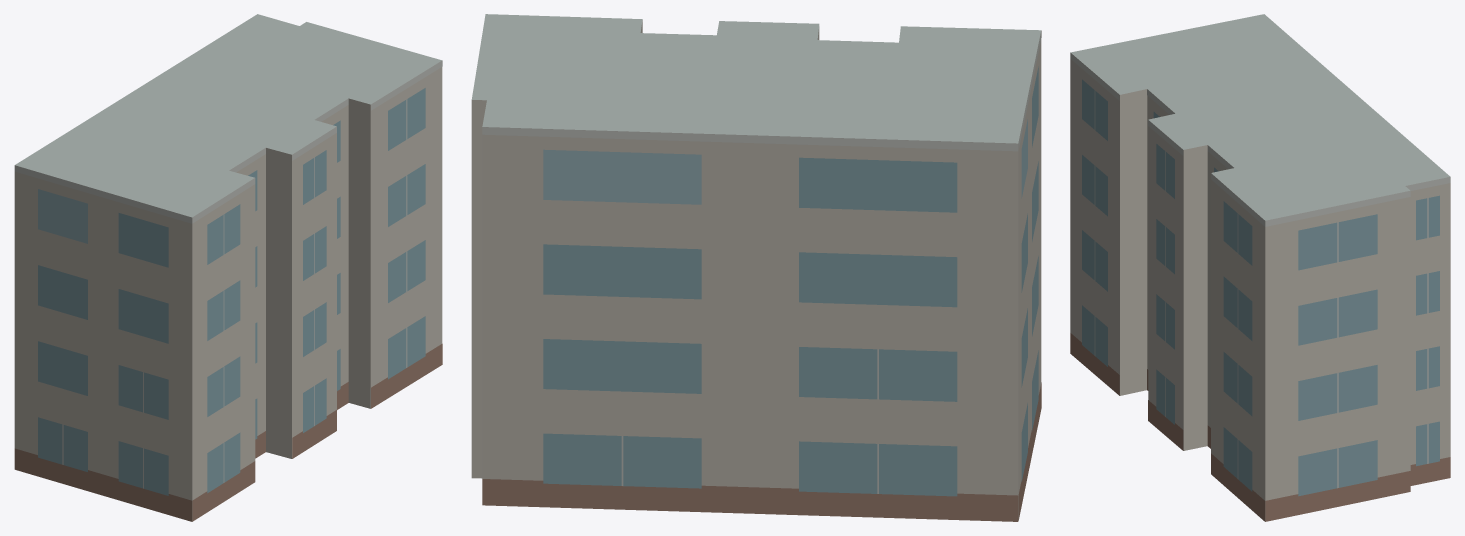
File: survey-upis-32909644.glb
3 views of the same model, side by side, from view 1: azimuth 30°, elevation 25°; view 2: azimuth 150°, elevation 25°; view 3: azimuth 270°, elevation 25° (orthographic). The views are drawn at different scales.
Visible parts, largest first — view 1: survey-upis-32909644.tmp; view 2: survey-upis-32909644.tmp; view 3: survey-upis-32909644.tmp.
Boxes of the visible parts, x1,y1,x2,y2 form: survey-upis-32909644.tmp: (14,14,442,521); survey-upis-32909644.tmp: (471,14,1041,521); survey-upis-32909644.tmp: (1070,14,1450,521).
Bounding box in the file's own units: 17.38 × 11.8 × 13.51.
